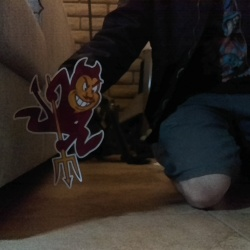sparky: (12, 56, 104, 188)
